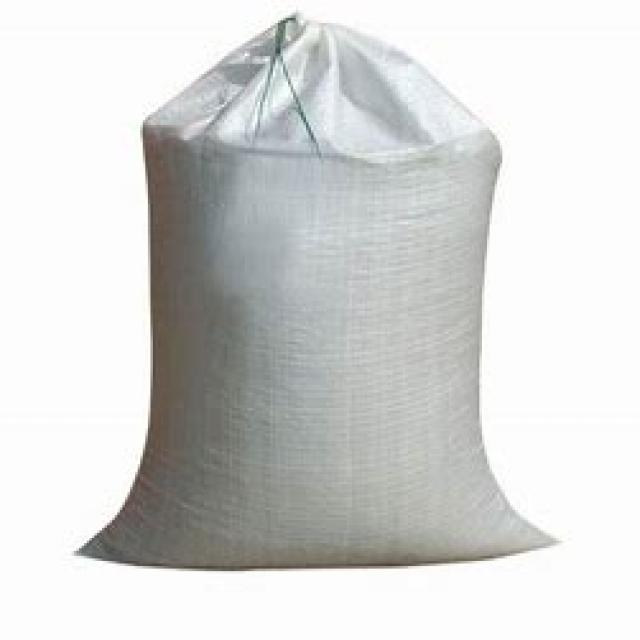gunny_bag: (72, 8, 559, 572)
